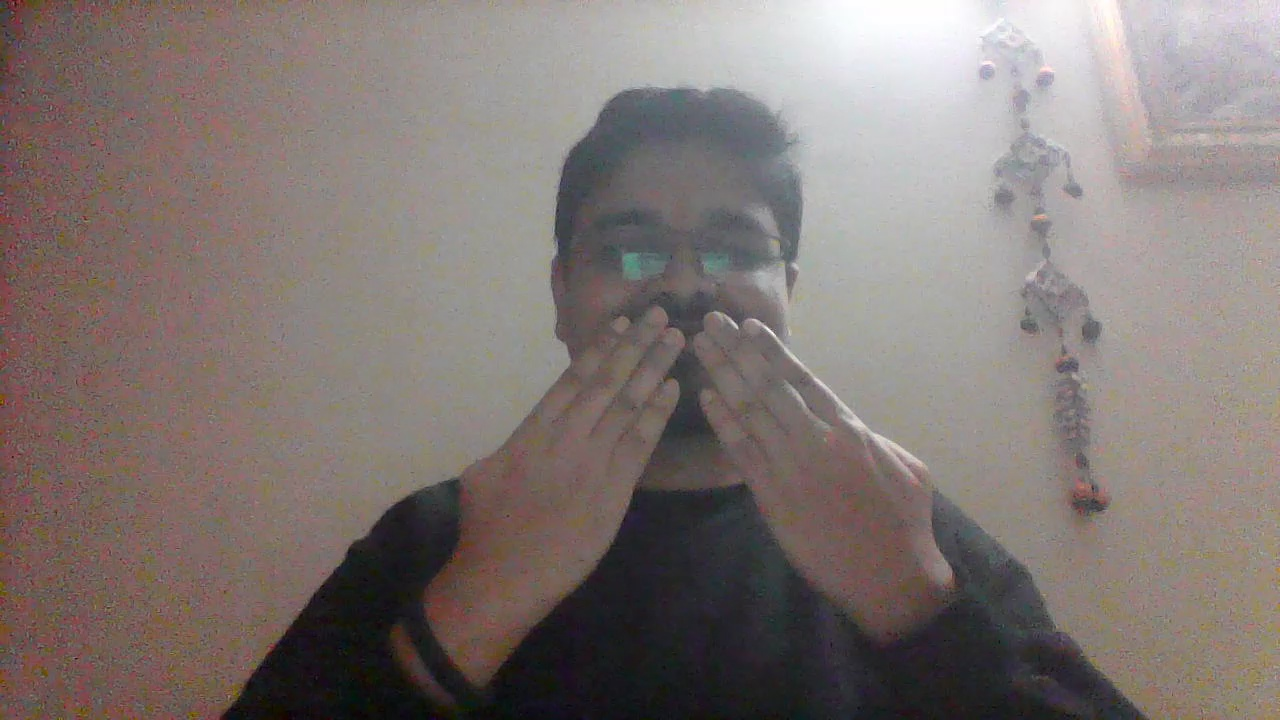Thanks: (448, 302, 948, 614)
